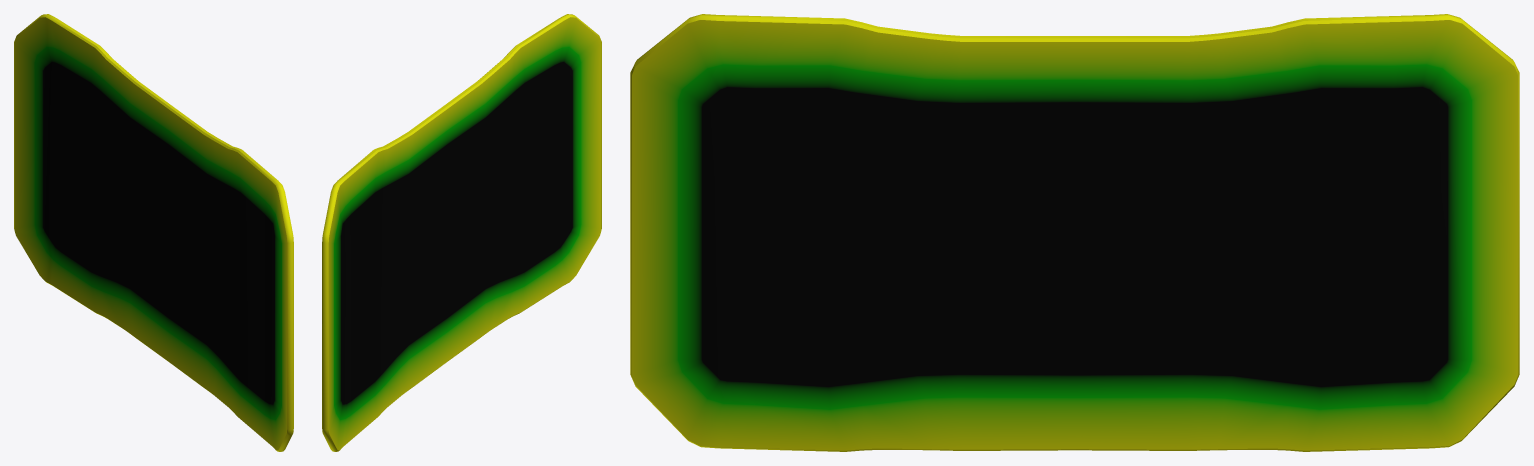
The model's file is Barrier2.fbx.
The picture shows the model from 3 angles, left to right: view 1: azimuth 30°, elevation 25°; view 2: azimuth 150°, elevation 25°; view 3: azimuth 270°, elevation 25°; orthographic projection. The views are drawn at different scales.
Visible parts, largest first — view 1: SM_GuardianBarrier.001; view 2: SM_GuardianBarrier.001; view 3: SM_GuardianBarrier.001.
Boxes of the visible parts, x1,y1,x2,y2 form: SM_GuardianBarrier.001: (14,14,293,451); SM_GuardianBarrier.001: (322,14,601,451); SM_GuardianBarrier.001: (630,14,1519,451).
Bounding box in the file's own units: 4494 × 47740 × 89295.
